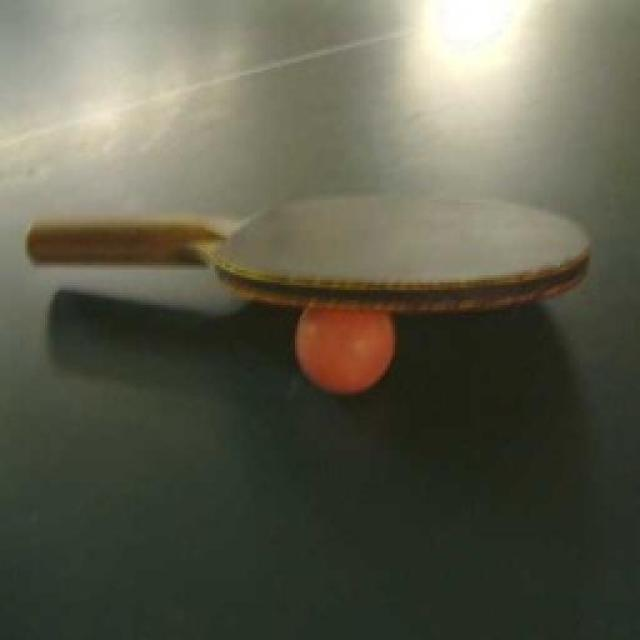oball: (298, 292, 394, 396)
